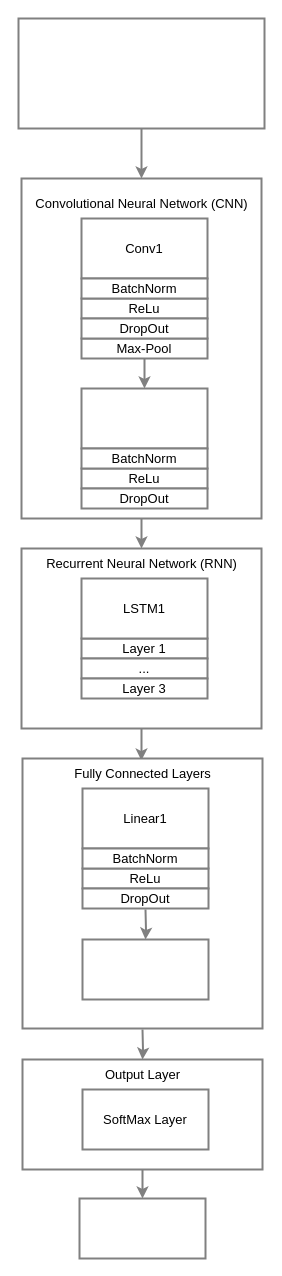
Some shapes in this 282 by 1276 pixel diagram are drawn without their labels. Each missing label, with the centre of its shape:
Conv2: the point at 144,418
Dataset data: Mel-Spectrogram of song target: one hot encoding of genre: the point at 141,73
Linear2: the point at 145,969
Predictions: the point at 142,1228
